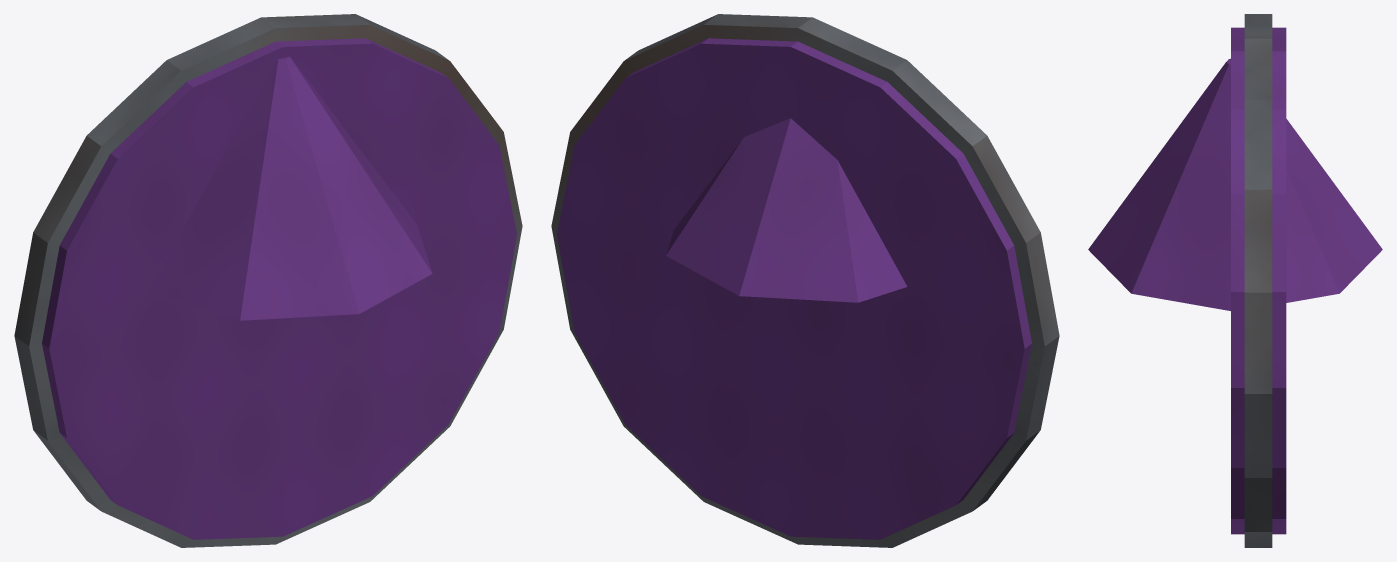
The model's file is crest_uncrowned.fbx.
3 views of the same model, side by side, from view 1: azimuth 30°, elevation 25°; view 2: azimuth 150°, elevation 25°; view 3: azimuth 270°, elevation 25° (orthographic). The views are drawn at different scales.
Parts seen in each view (by area): view 1: crest_uncrowned; view 2: crest_uncrowned; view 3: crest_uncrowned.
Part boxes in pixels (box(x1,y1,x2,y2)): crest_uncrowned: box(14, 14, 522, 547); crest_uncrowned: box(551, 14, 1059, 547); crest_uncrowned: box(1088, 14, 1382, 547).
Size of the model in its own units: 1.16 by 1.16 by 0.64.
